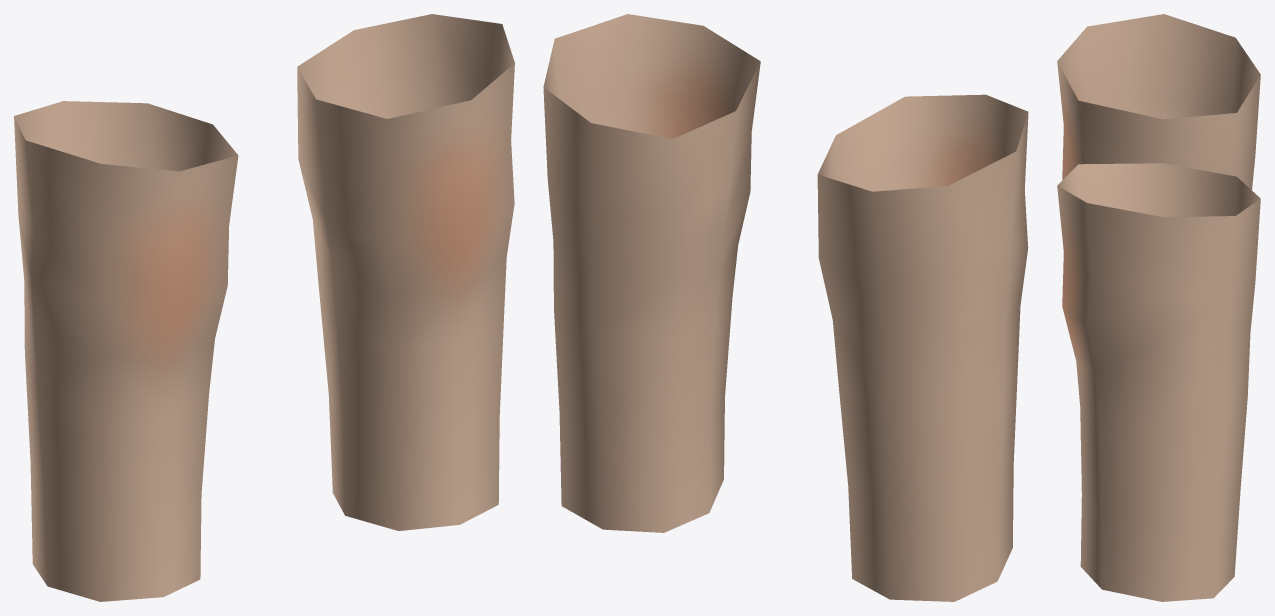
Rendered from Body_White_LegB_2.fbx.
3 renders of one model, left to right at view 1: azimuth 30°, elevation 25°; view 2: azimuth 150°, elevation 25°; view 3: azimuth 270°, elevation 25°, orthographic. The views are drawn at different scales.
Parts seen in each view (by area): view 1: Body_White_LegB_2; view 2: Body_White_LegB_2; view 3: Body_White_LegB_2.
Boxes of the visible parts, x1,y1,x2,y2 form: Body_White_LegB_2: (14,14,514,601); Body_White_LegB_2: (543,14,1028,601); Body_White_LegB_2: (1057,14,1260,601).
Size of the model in its own units: 32.69 by 29.91 by 13.84.
